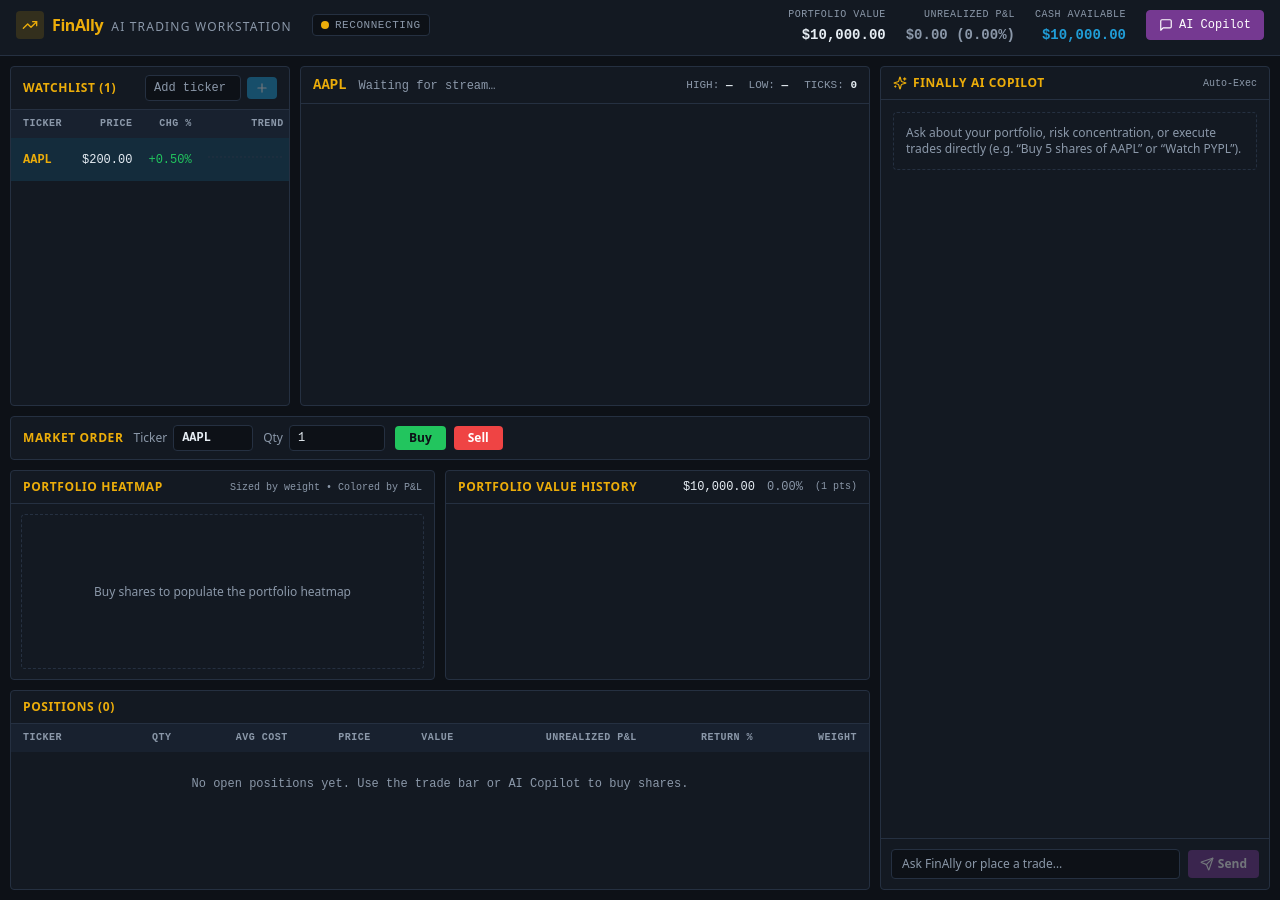
Scenario: TradingWorkstation integration › loads initial data, executes a trade, sends chat, and toggles copilot
Check: the text with test id "header-cash" reads "$10,000.00", box [1042,27,1126,43]
// Execute buy trade via TradeBar
Replace the text in the number field named "Trade quantity" with "2" at (337, 438), box [289,425,385,451]
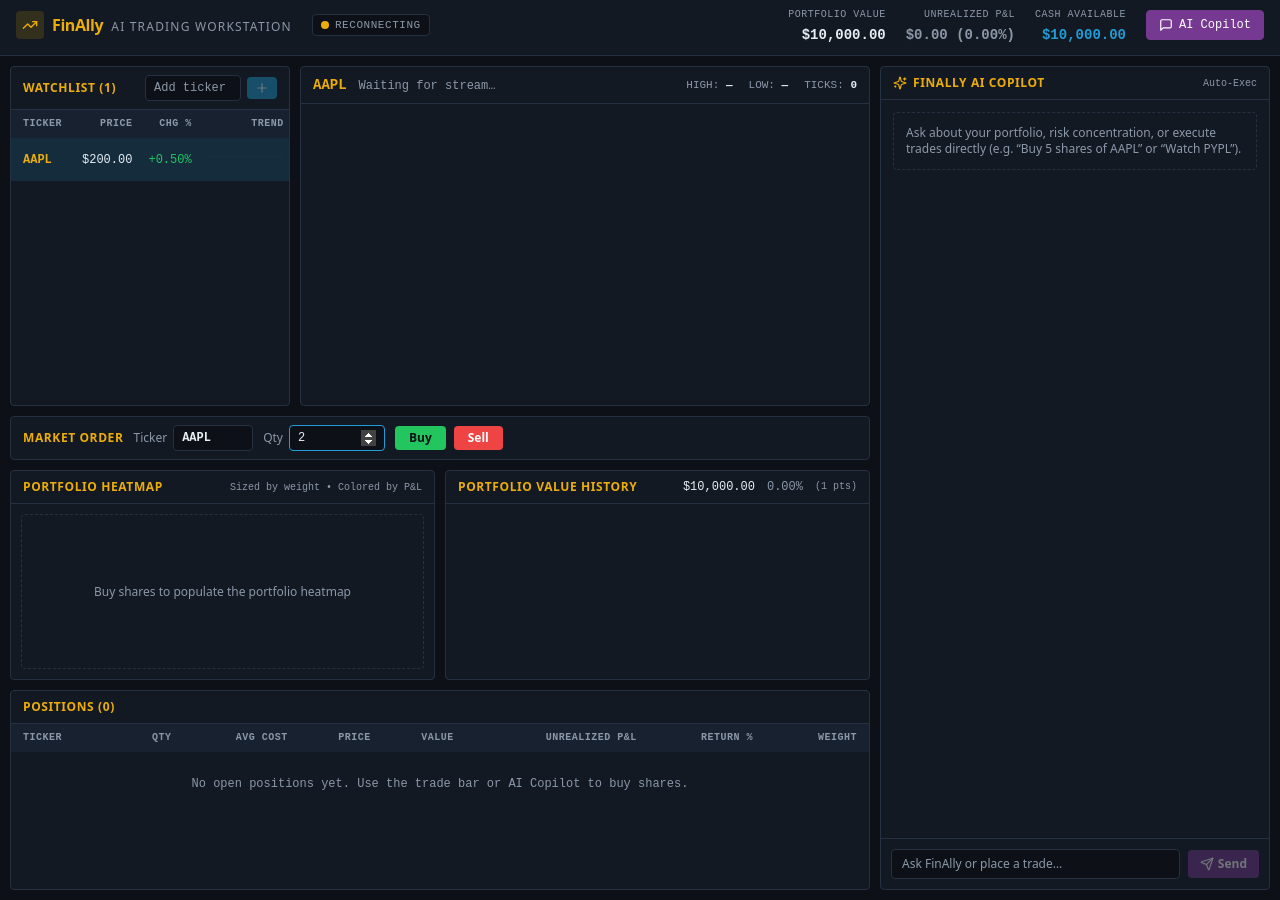
Click the button "Buy" at (420, 438), box [395,426,446,450]
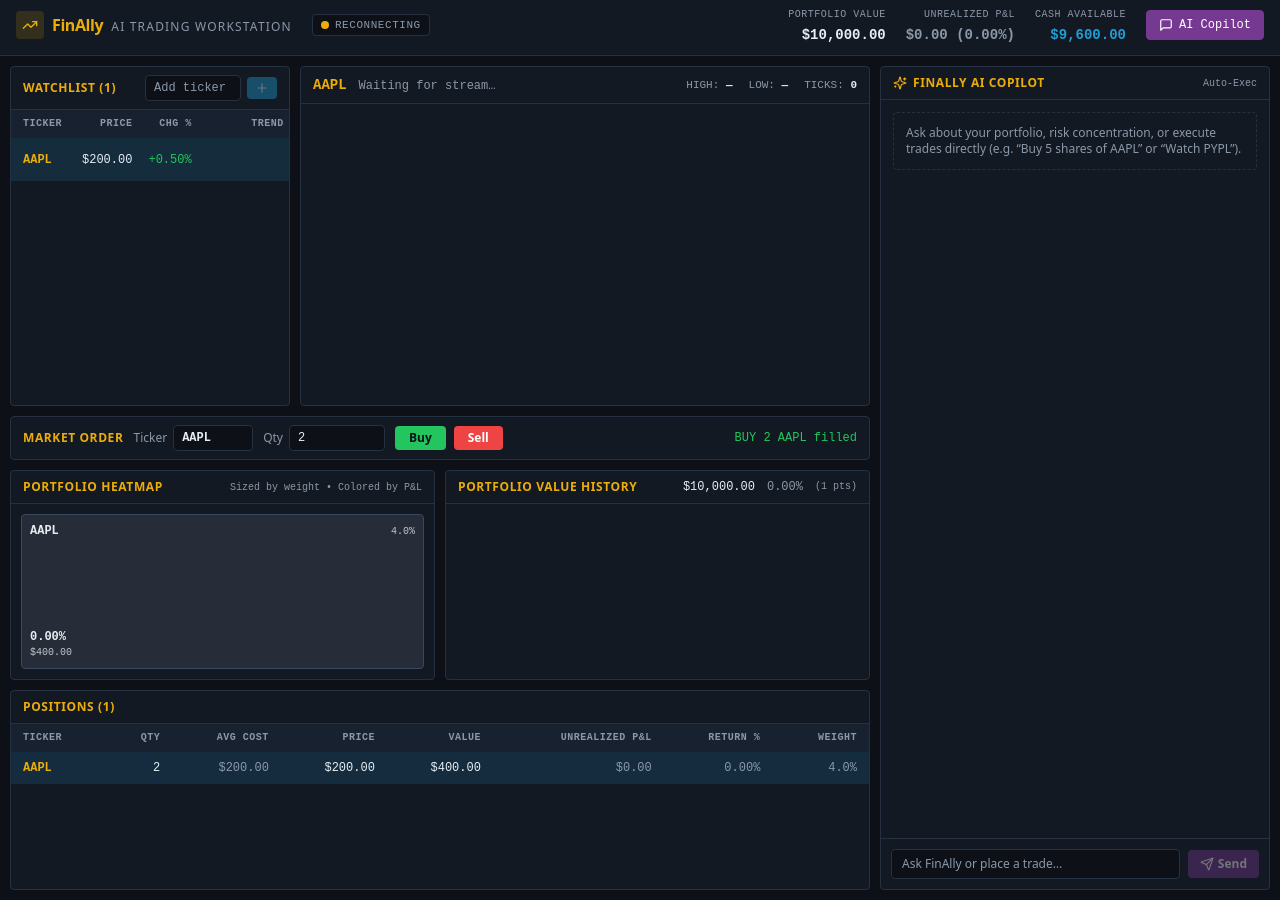
Check: the text with test id "header-cash" reads "$9,600.00", box [1050,27,1126,43]
// Send chat message
Type "status" into the field named "Chat message" at (1035, 864), box [891,849,1180,879]
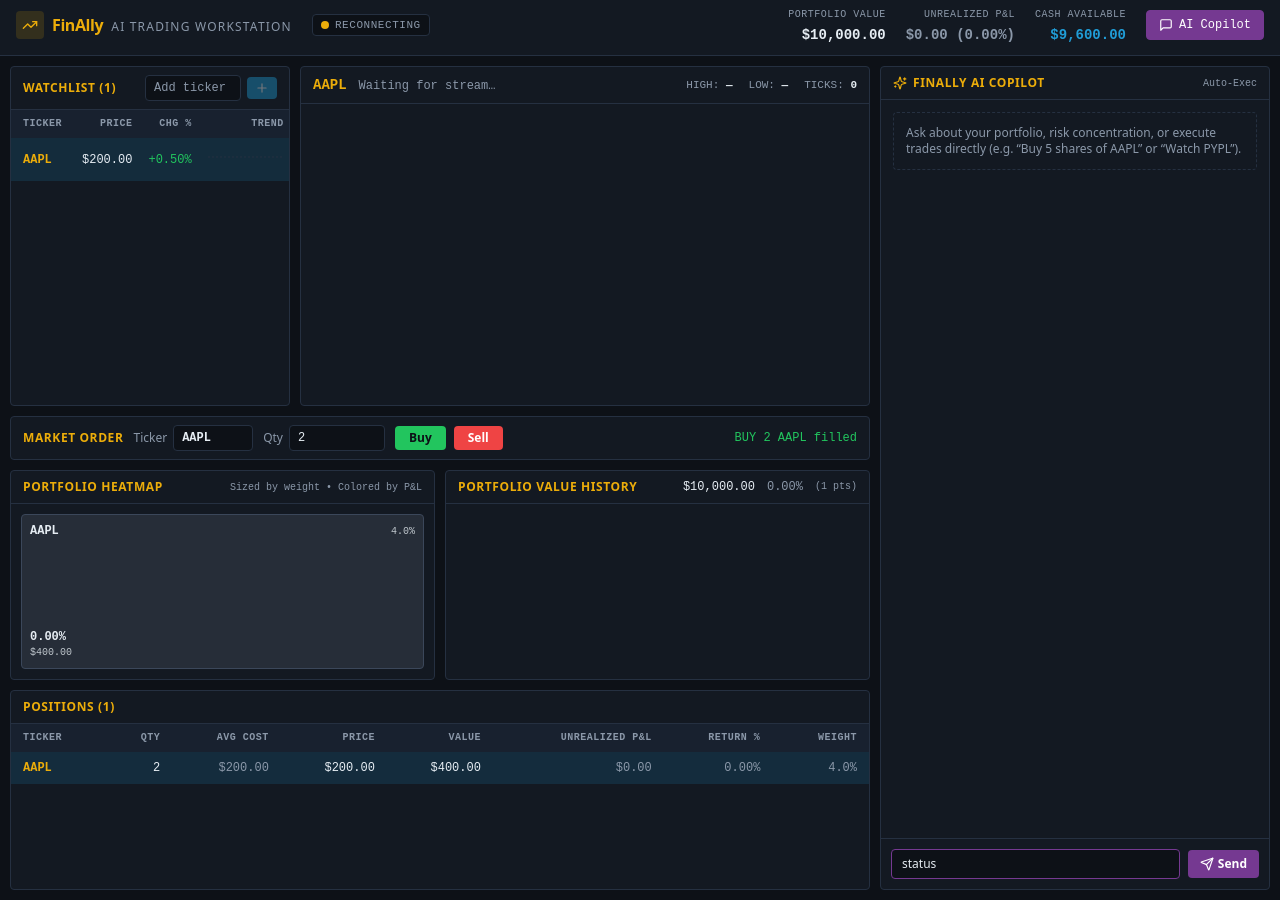
Click the button with aria-label "Send message" at (1223, 864), box [1188,850,1259,878]
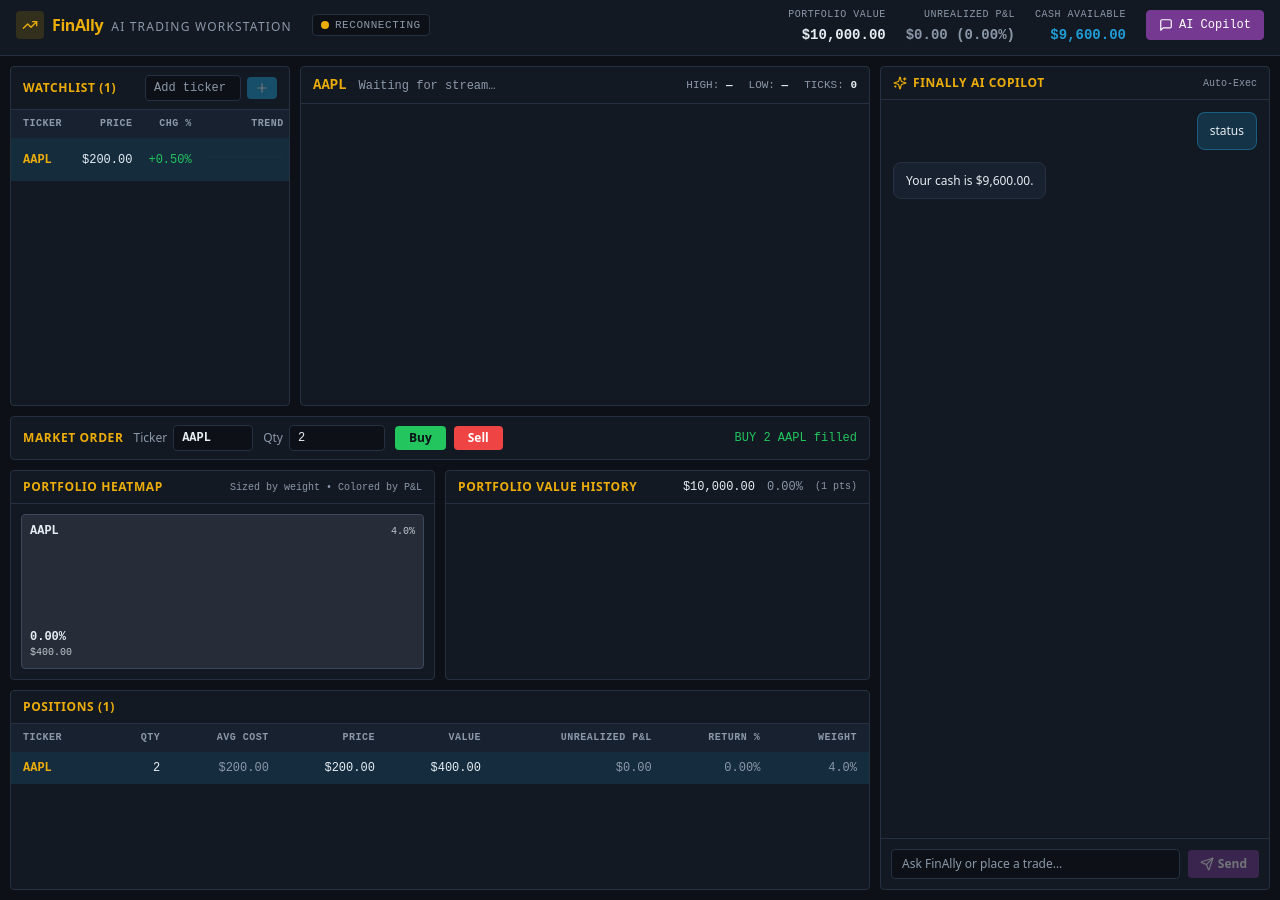
Check: the text "Your cash is $9,600.00." is shown, box [906,170,1033,190]
